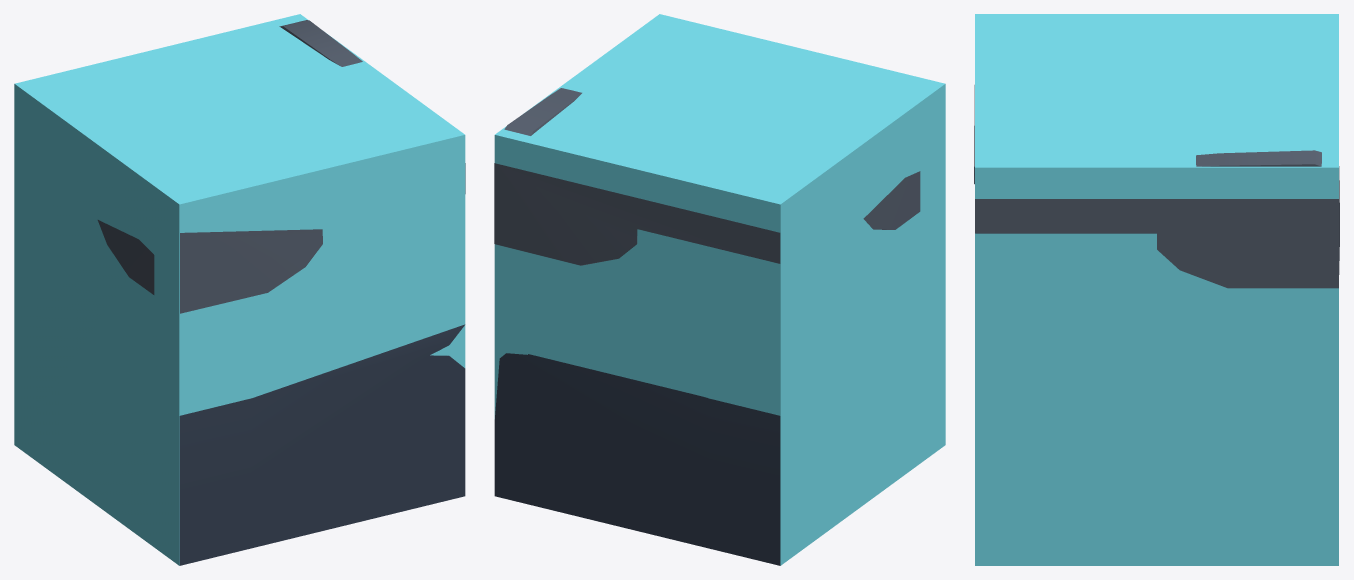
Rendered from PBOX22_MudFLA_01.FBX.
The picture shows the model from 3 angles, left to right: view 1: azimuth 30°, elevation 25°; view 2: azimuth 150°, elevation 25°; view 3: azimuth 270°, elevation 25°; orthographic projection. The views are drawn at different scales.
Visible parts, largest first — view 1: PBOX22_MudFLA_01, PBOX22_SUB_TAB_FlA_004, PBOX22_SUB_MudFlA_003; view 2: PBOX22_MudFLA_01, PBOX22_SUB_TAB_FlA_004, PBOX22_SUB_MudFlA_003; view 3: PBOX22_MudFLA_01, PBOX22_SUB_MudFlA_003.
Boxes of the visible parts, <box> form: PBOX22_MudFLA_01: <box>14,14,465,565</box>; PBOX22_SUB_TAB_FlA_004: <box>179,324,465,565</box>; PBOX22_SUB_MudFlA_003: <box>97,20,465,313</box>; PBOX22_MudFLA_01: <box>494,14,945,565</box>; PBOX22_SUB_TAB_FlA_004: <box>494,353,780,565</box>; PBOX22_SUB_MudFlA_003: <box>494,88,920,265</box>; PBOX22_MudFLA_01: <box>975,14,1338,565</box>; PBOX22_SUB_MudFlA_003: <box>974,85,1339,288</box>.
Bounding box in the file's own units: 12.02 × 14.59 × 12.07.
